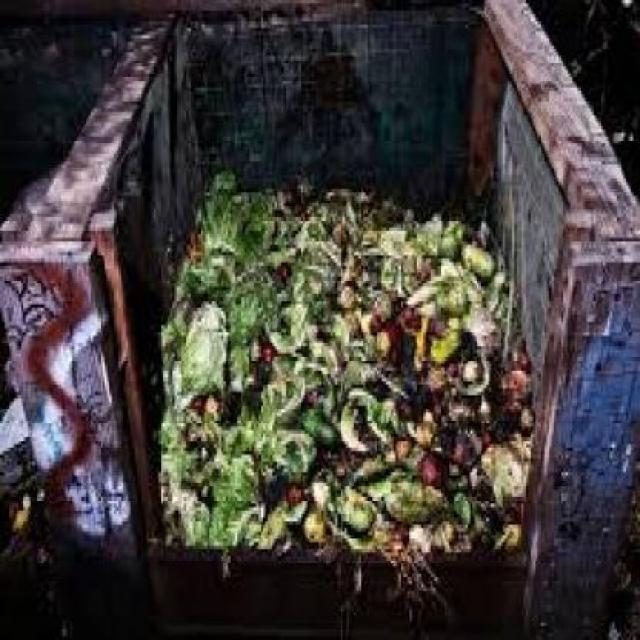garbage: (131, 133, 534, 612)
